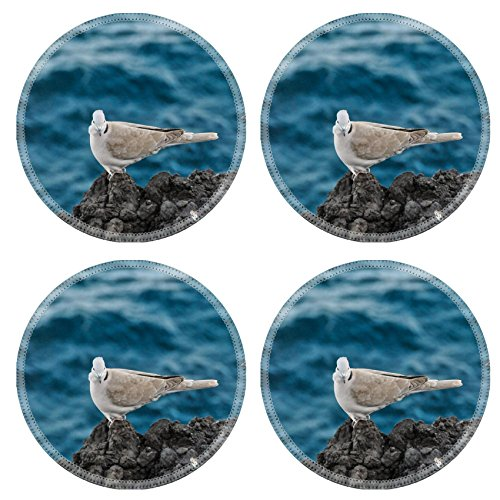volcanic_rock: (93, 178, 185, 217), (397, 176, 447, 209)
